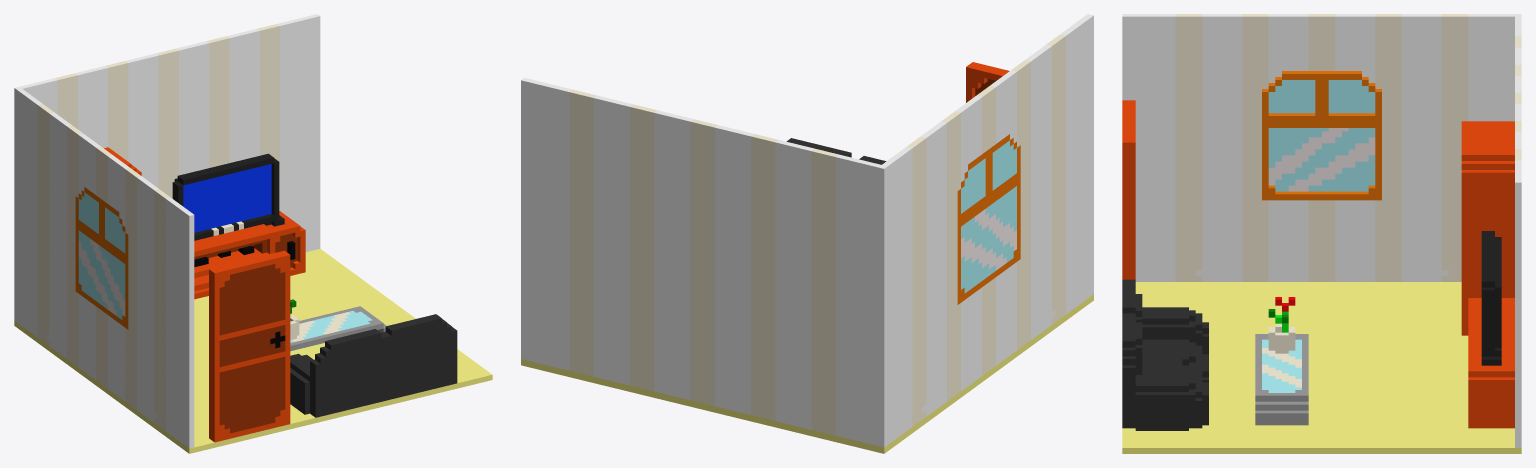
File: interior.glb
The picture shows the model from 3 angles, left to right: view 1: azimuth 30°, elevation 25°; view 2: azimuth 150°, elevation 25°; view 3: azimuth 270°, elevation 25°; orthographic projection. The views are drawn at different scales.
Parts seen in each view (by area): view 1: _0; view 2: _0; view 3: _0.
Part boxes in pixels (x1=…): _0: x1=14, y1=14, x2=492, y2=453; _0: x1=521, y1=14, x2=1093, y2=453; _0: x1=1122, y1=14, x2=1521, y2=453.
Bounding box in the file's own units: 0.09 × 0.0675 × 0.09.
